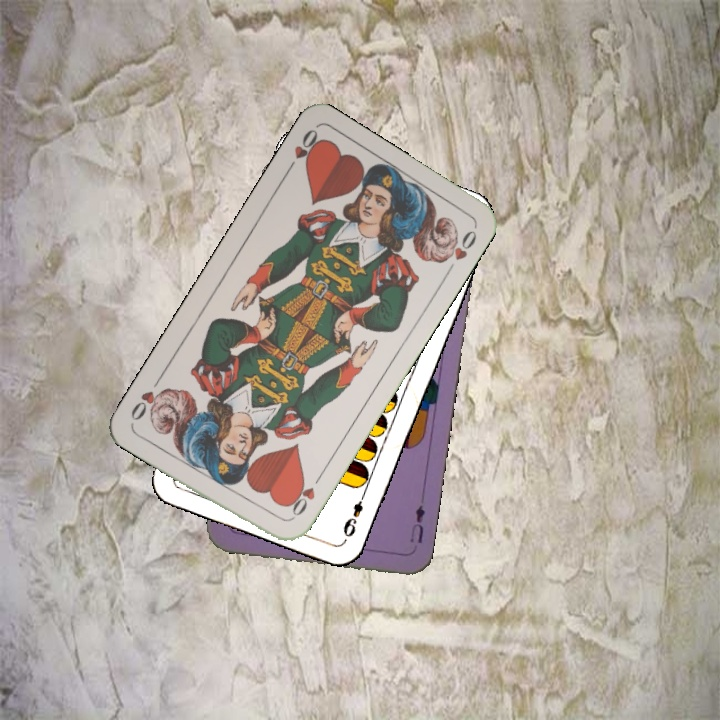E9: (339, 487, 369, 544)
EU: (406, 501, 428, 546)
HO: (281, 124, 325, 178), (283, 471, 325, 523)
